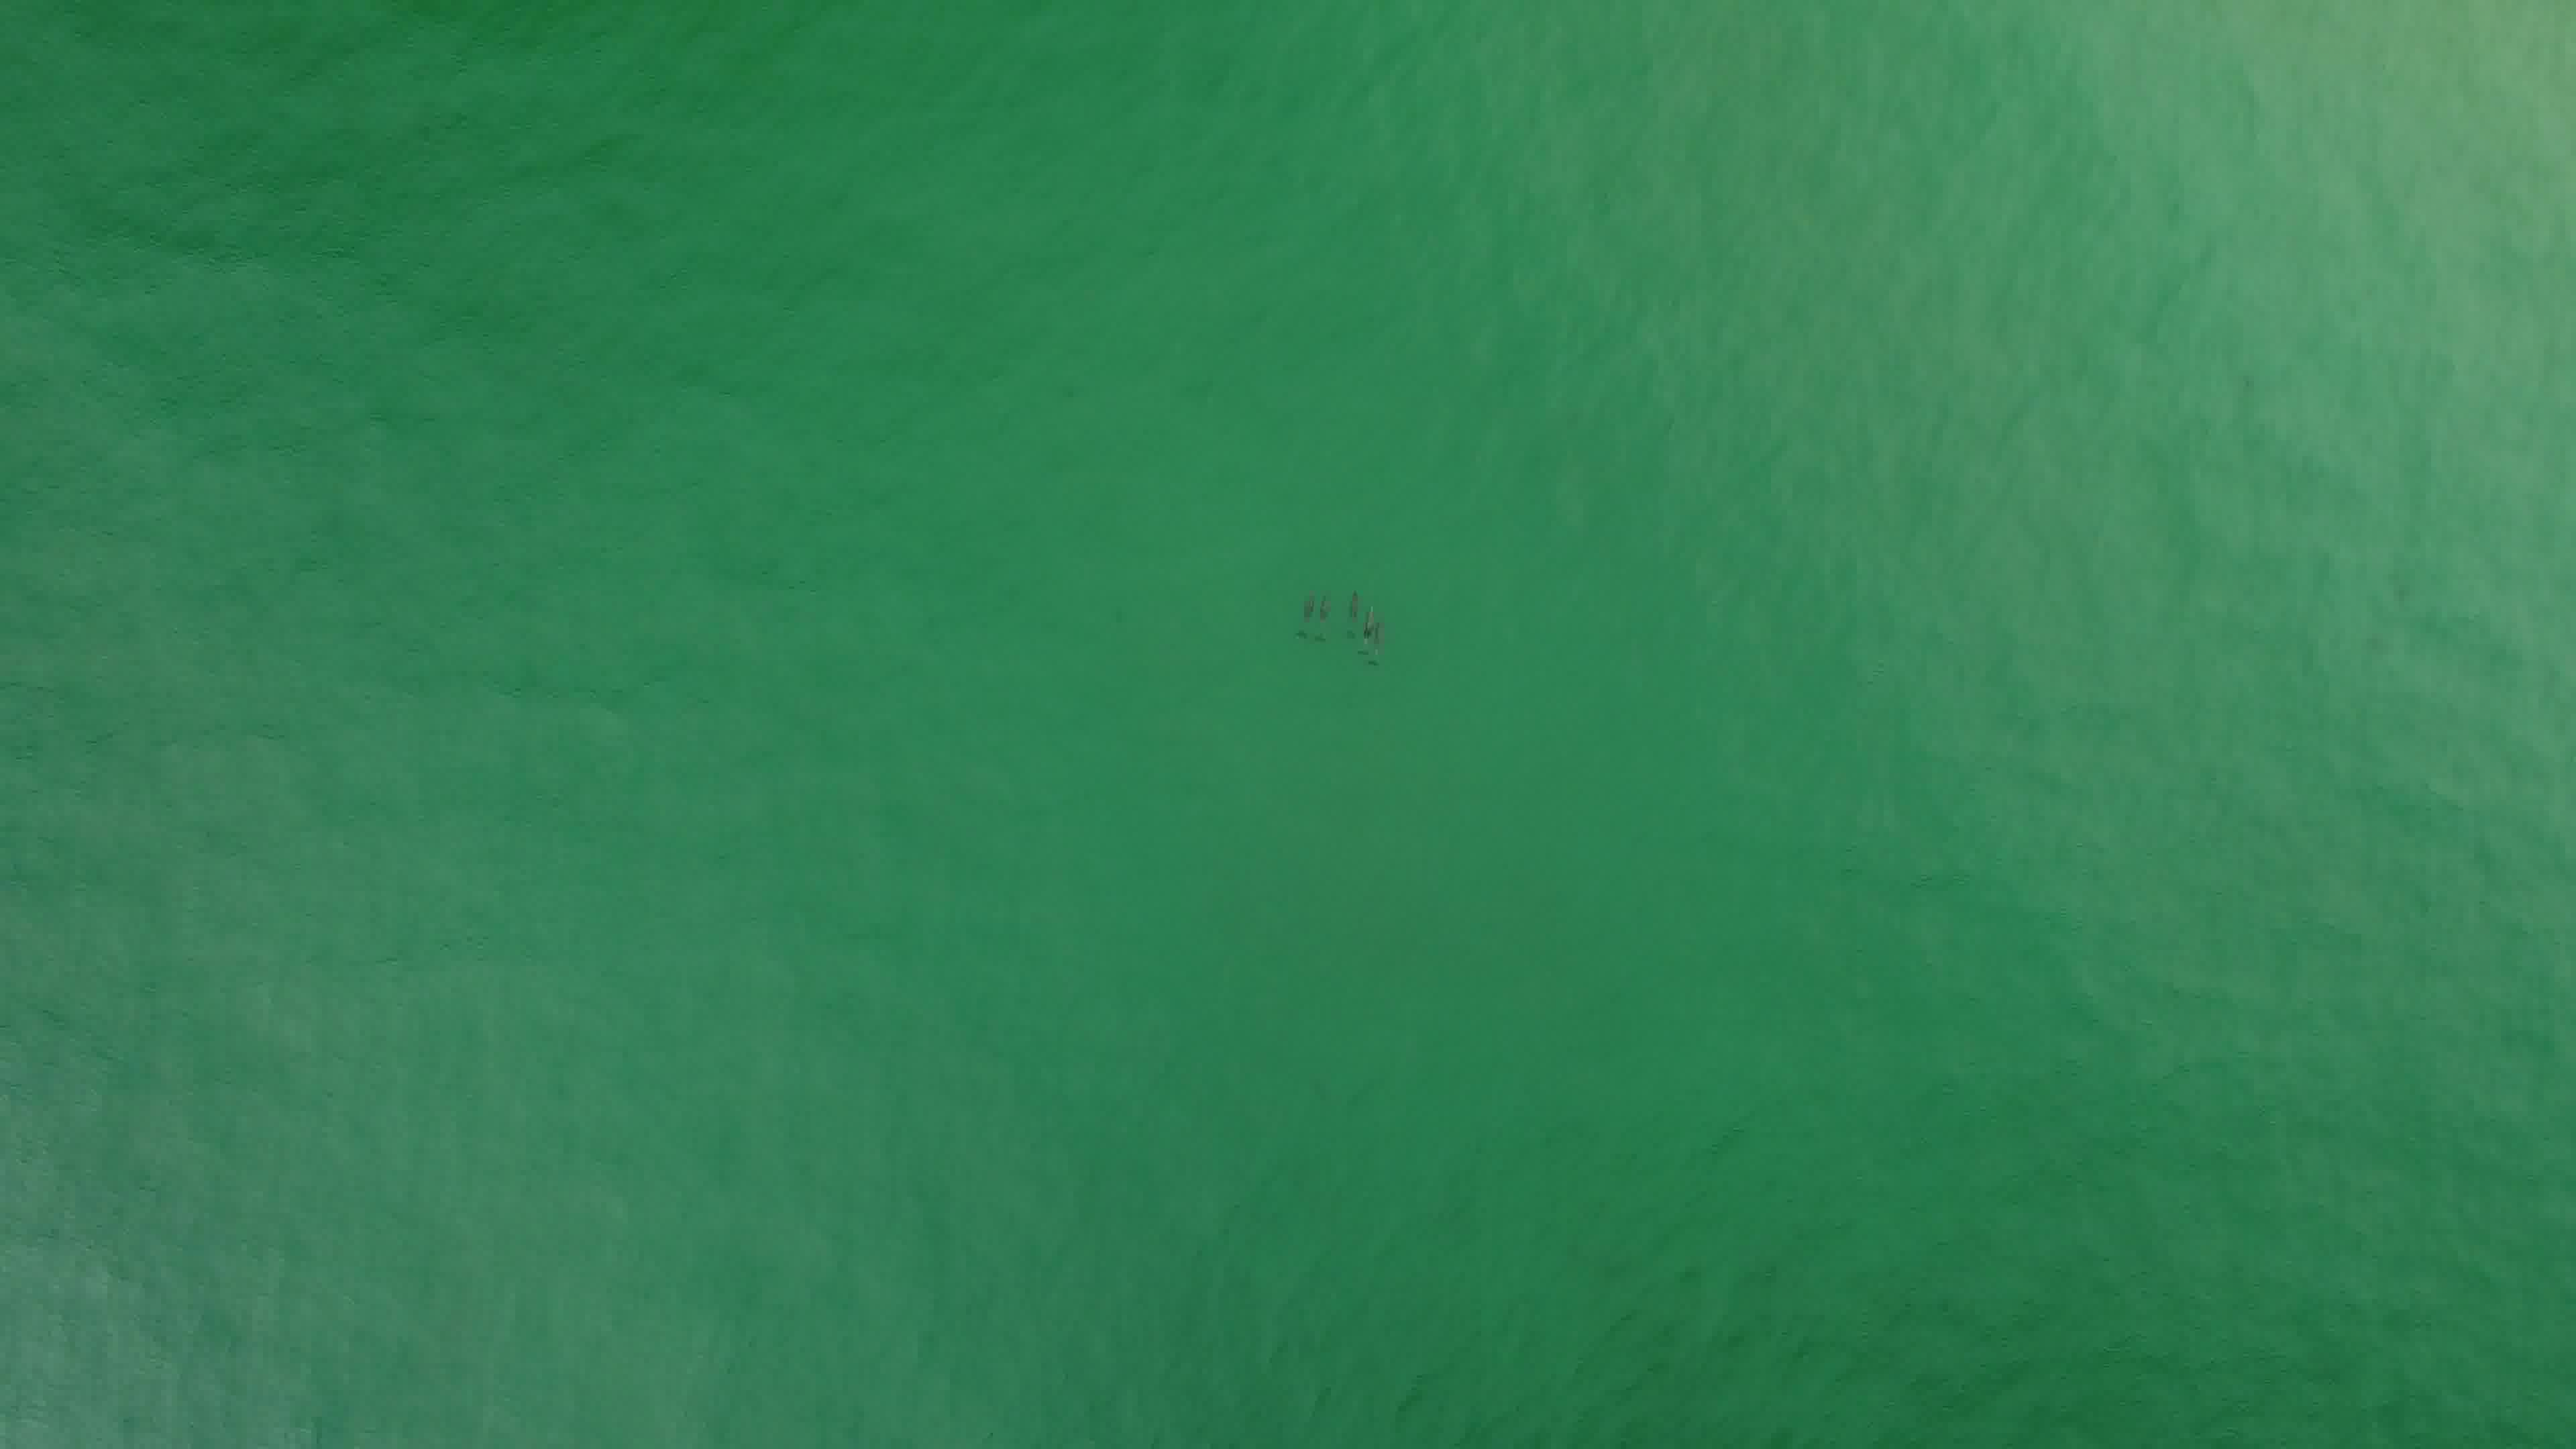dolphin: (1355, 598, 1419, 683), (1341, 582, 1392, 669), (1304, 570, 1343, 658), (1334, 573, 1369, 665), (1284, 580, 1322, 648)
